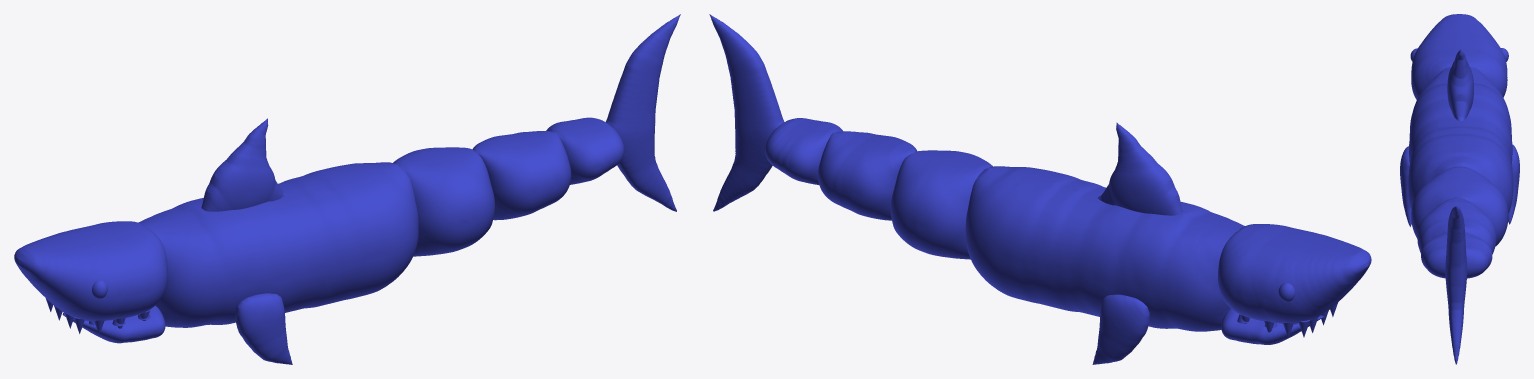
File: Shark.fbx
3 views of the same model, side by side, from view 1: azimuth 30°, elevation 25°; view 2: azimuth 150°, elevation 25°; view 3: azimuth 270°, elevation 25° (orthographic). The views are drawn at different scales.
Visible parts, largest first — view 1: root (×7), node_id71, node_id119; view 2: root (×7), node_id71, node_id119; view 3: root (×8), node_id71.
Boxes of the visible parts, left/top/right/bottom form: root (×7): left=138, top=14, right=680, bottom=364; node_id71: left=14, top=221, right=167, bottom=321; node_id119: left=62, top=305, right=165, bottom=343; root (×7): left=709, top=14, right=1244, bottom=364; node_id71: left=1218, top=224, right=1371, bottom=323; node_id119: left=1221, top=309, right=1323, bottom=344; root (×8): left=1400, top=49, right=1519, bottom=364; node_id71: left=1411, top=14, right=1507, bottom=99.
Bounding box in the file's own units: 0.6246 × 0.2065 × 0.121.
